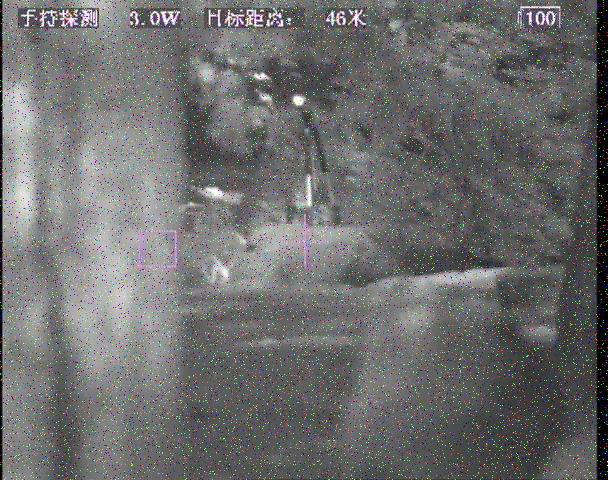my: (292, 94, 305, 107)
